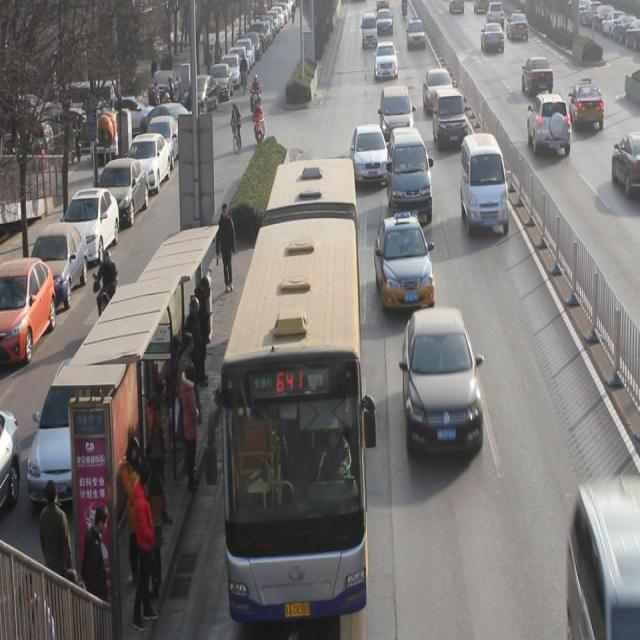car: (403, 308, 484, 456), (374, 215, 436, 312), (527, 93, 572, 155), (351, 124, 388, 185), (432, 89, 467, 148), (610, 132, 640, 199), (381, 86, 414, 137), (571, 80, 604, 127), (423, 68, 453, 111), (522, 56, 554, 94), (374, 41, 398, 78), (480, 22, 505, 54), (507, 10, 530, 42), (407, 18, 425, 50)
truck: (460, 132, 510, 237), (387, 127, 432, 221), (360, 12, 378, 47)
van: (219, 156, 367, 624)
